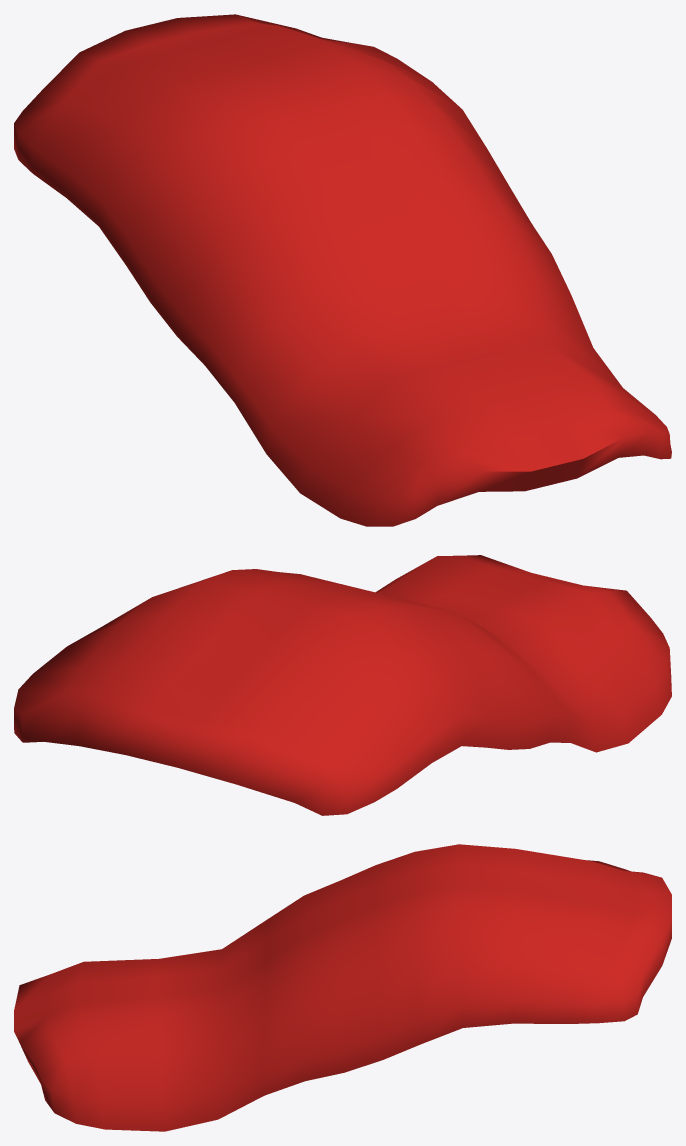
The model's file is Cape.fbx.
3 renders of one model, top to bottom at view 1: azimuth 30°, elevation 25°; view 2: azimuth 150°, elevation 25°; view 3: azimuth 270°, elevation 25°, orthographic. The views are drawn at different scales.
Parts seen in each view (by area): view 1: Cape; view 2: Cape; view 3: Cape.
Part boxes in pixels (x1,y1,x2,y2): Cape: (14, 14, 671, 526); Cape: (14, 555, 671, 815); Cape: (14, 844, 671, 1131).
Size of the model in its own units: 46.71 by 28.88 by 89.85.
